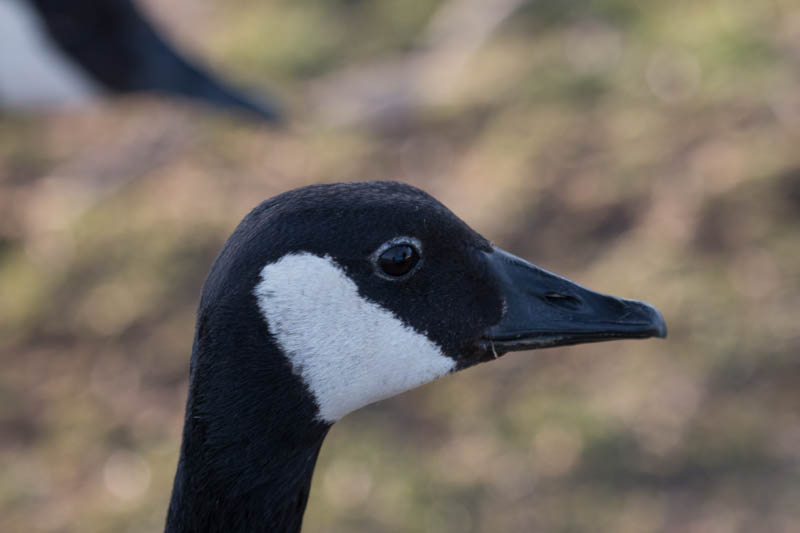goose-head: (185, 180, 667, 422)
